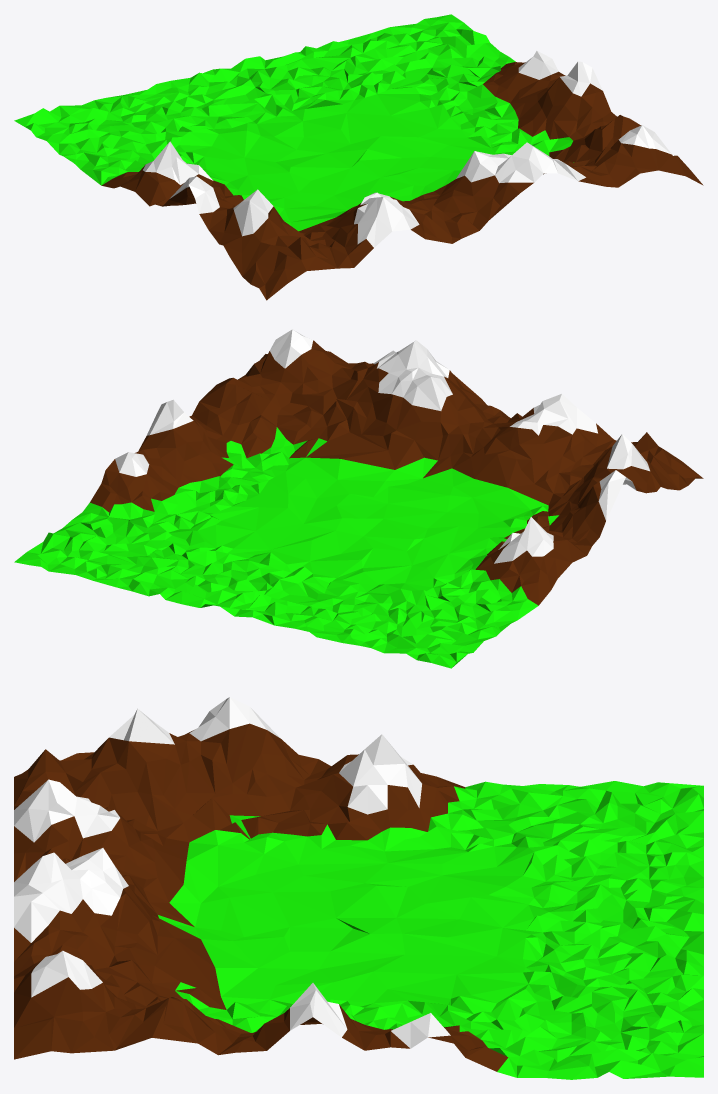
File: Ground.FBX
The picture shows the model from 3 angles, top to bottom: view 1: azimuth 30°, elevation 25°; view 2: azimuth 150°, elevation 25°; view 3: azimuth 270°, elevation 25°; orthographic projection. The views are drawn at different scales.
Parts seen in each view (by area): view 1: Plane001; view 2: Plane001; view 3: Plane001.
Part boxes in pixels (left/top/right/bottom): Plane001: left=14, top=14, right=703, bottom=300; Plane001: left=14, top=329, right=703, bottom=668; Plane001: left=14, top=697, right=703, bottom=1079.
Bounding box in the file's own units: 300 × 300 × 57.24.
